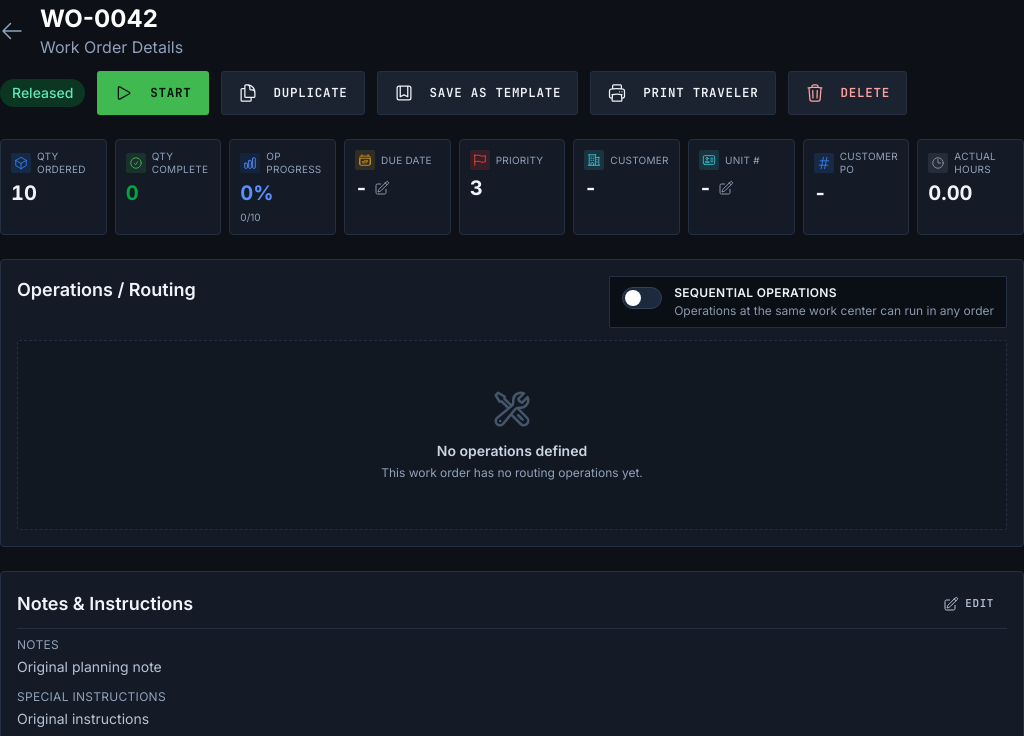
Test: WorkOrderDetail inline notes edit — save path › opens seeded from the server values, with the 2000-char cap and counts
Step 1. Click the button "Edit" → (969, 604), box [930,588,1007,620]
(page scrolled)
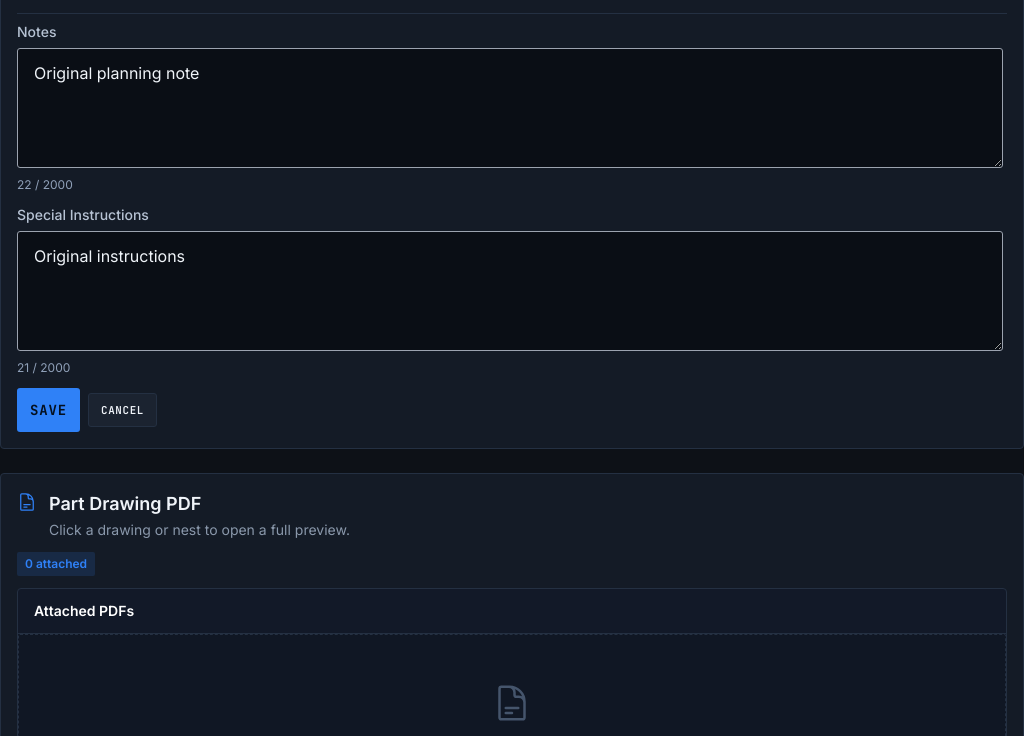
Result: the text box labelled "Notes" holds "Original planning note" at [17,48,1003,168]
Result: the text box labelled "Special Instructions" holds "Original instructions" at [17,230,1003,350]
